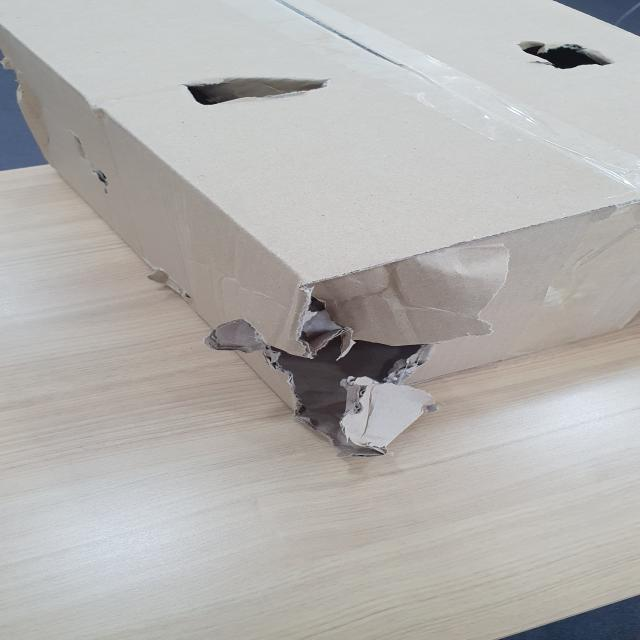hole: (232, 267, 452, 461), (171, 69, 329, 114), (507, 35, 614, 77)
